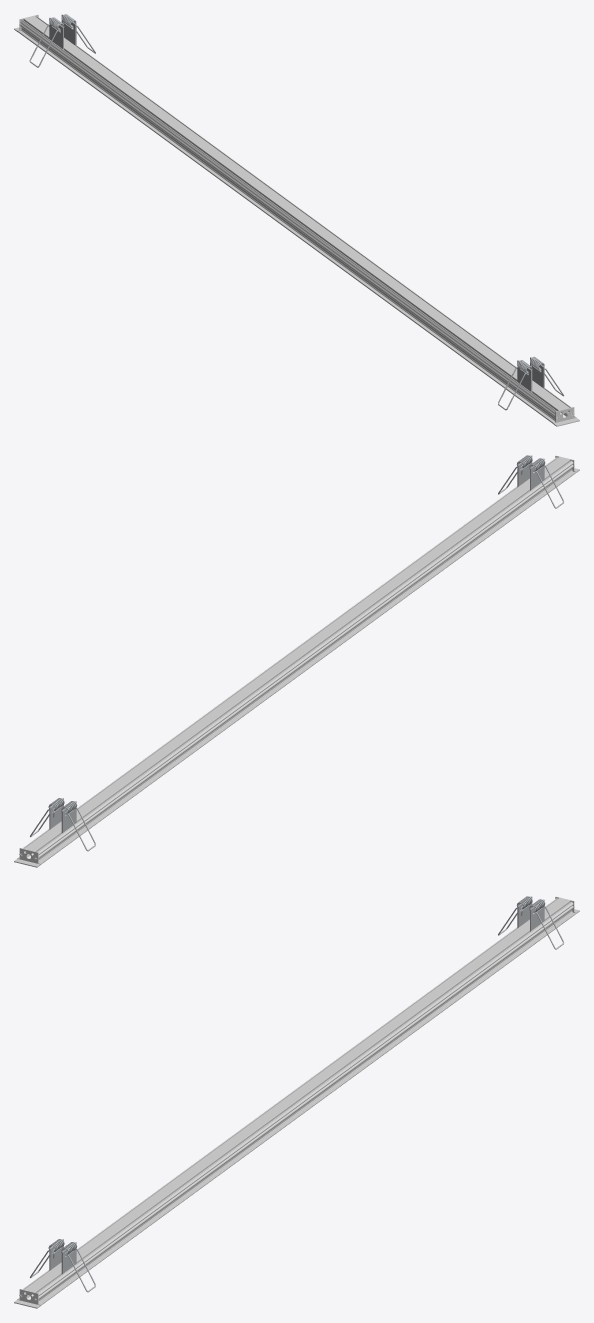
Rendered from Fit15SlimEmbutido.glb.
The picture shows the model from 3 angles, top to bottom: view 1: azimuth 30°, elevation 25°; view 2: azimuth 150°, elevation 25°; view 3: azimuth 330°, elevation 25°; orthographic projection.
Parts seen in each view (by area): view 1: 3DGeom-1; view 2: 3DGeom-1; view 3: 3DGeom-1.
Part boxes in pixels (box(x1,y1,x2,y2)): 3DGeom-1: box(17, 16, 575, 423); 3DGeom-1: box(18, 457, 576, 864); 3DGeom-1: box(18, 898, 576, 1305).
Bounding box in the file's own units: 0.0634 × 0.0405 × 1.01.
Materials: 3 (1 with a texture image).
